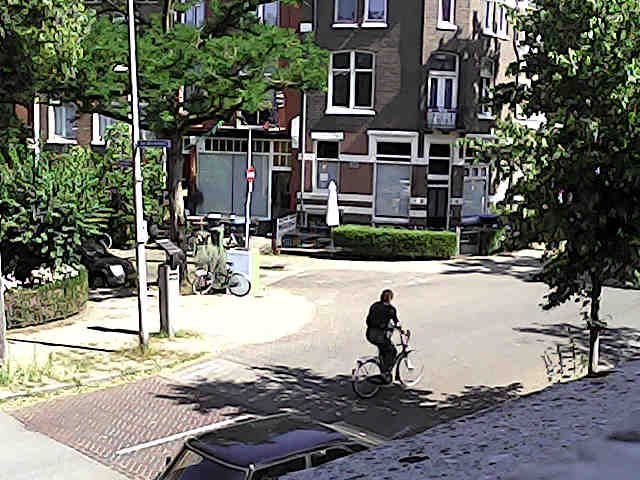male: (366, 289, 398, 380)
suv: (157, 413, 382, 479)
